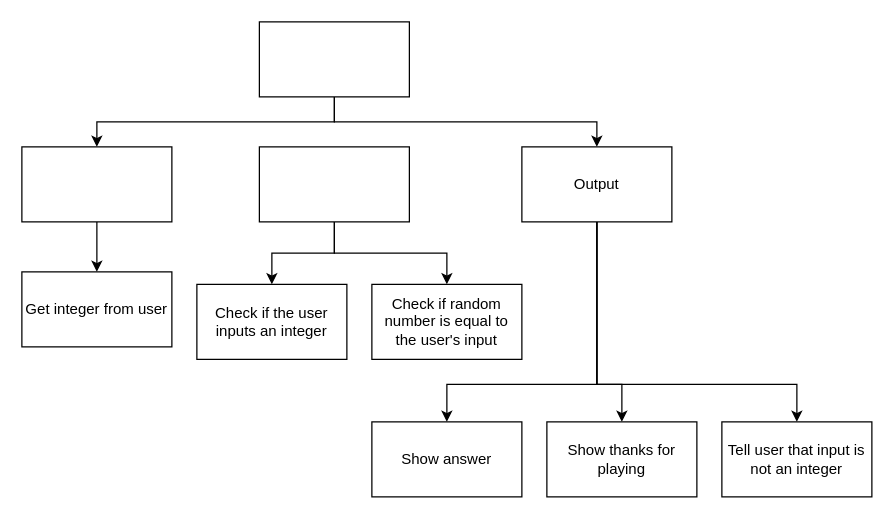
This 894x519 diagram has some shape labels left out. Here are the shapes that lost their labels. From the top down, the centre of each, then its label:
[333,59]: Random Number Guessing Game
[96,184]: Input
[333,184]: Process
